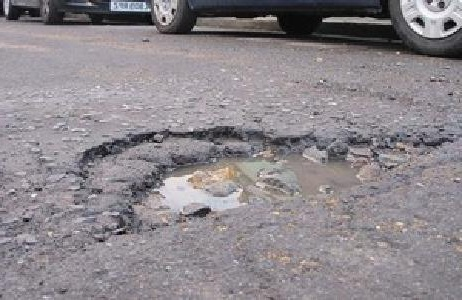pothole: (74, 121, 453, 246)
